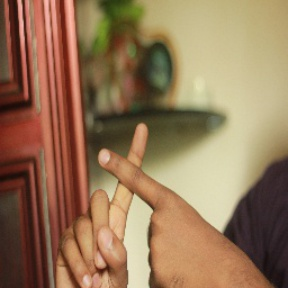X: (73, 115, 198, 253)
